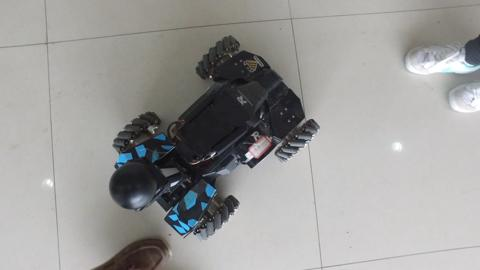chariot: (108, 16, 308, 246)
